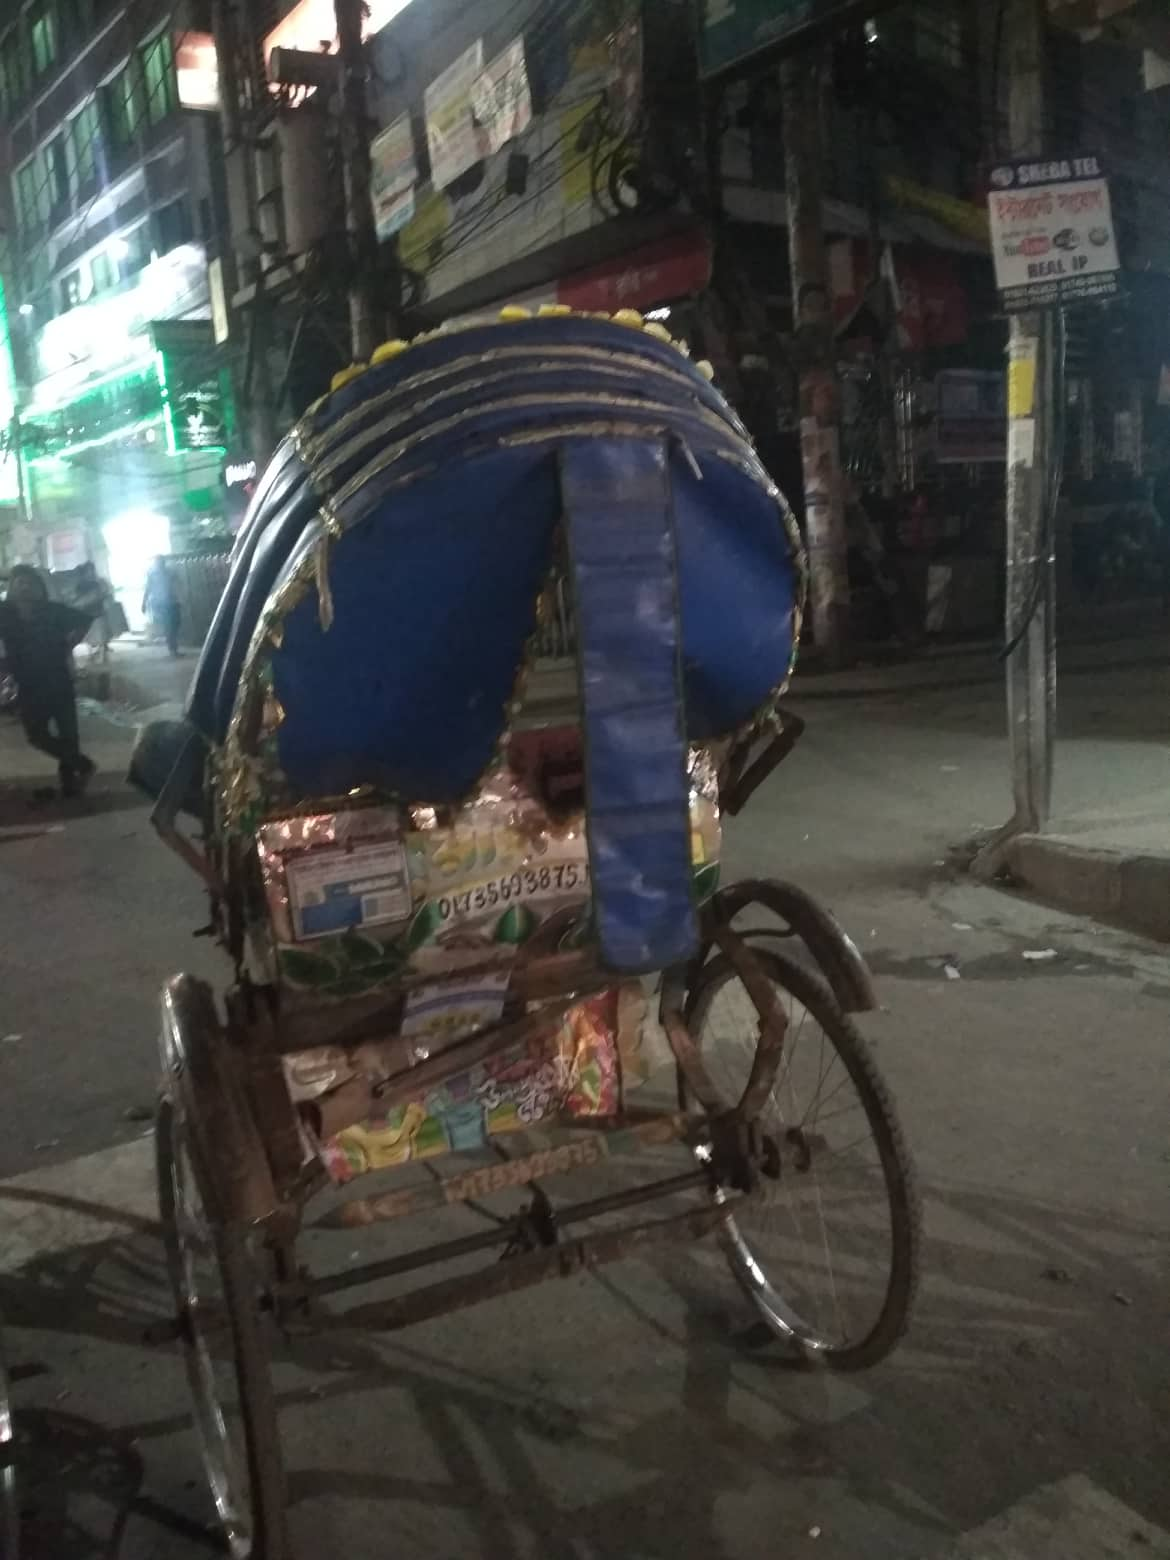Rickshaw: (132, 353, 951, 1464)
